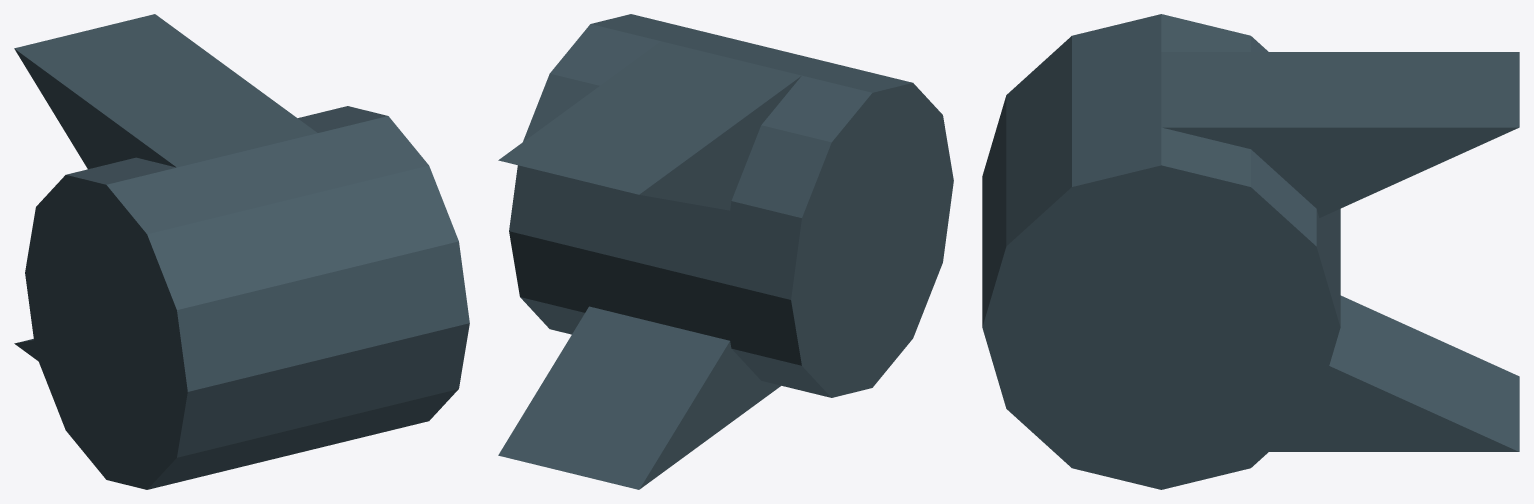
Rendered from Robot - Claw.obj.
3 views of the same model, side by side, from view 1: azimuth 30°, elevation 25°; view 2: azimuth 150°, elevation 25°; view 3: azimuth 270°, elevation 25° (orthographic). The views are drawn at different scales.
Parts seen in each view (by area): view 1: group1028701814, group706640210; view 2: group1028701814, group2113376091, group706640210; view 3: group1028701814, group706640210, group2113376091.
Part boxes in pixels (left/top/right/bottom): group1028701814: left=25, top=106, right=469, bottom=489; group706640210: left=14, top=14, right=317, bottom=169; group1028701814: left=509, top=14, right=953, bottom=397; group2113376091: left=498, top=306, right=780, bottom=489; group706640210: left=498, top=41, right=801, bottom=210; group1028701814: left=982, top=14, right=1340, bottom=489; group706640210: left=1161, top=52, right=1519, bottom=217; group2113376091: left=1269, top=295, right=1519, bottom=451.
Size of the model in its own units: 0.04 by 0.04 by 0.06.
